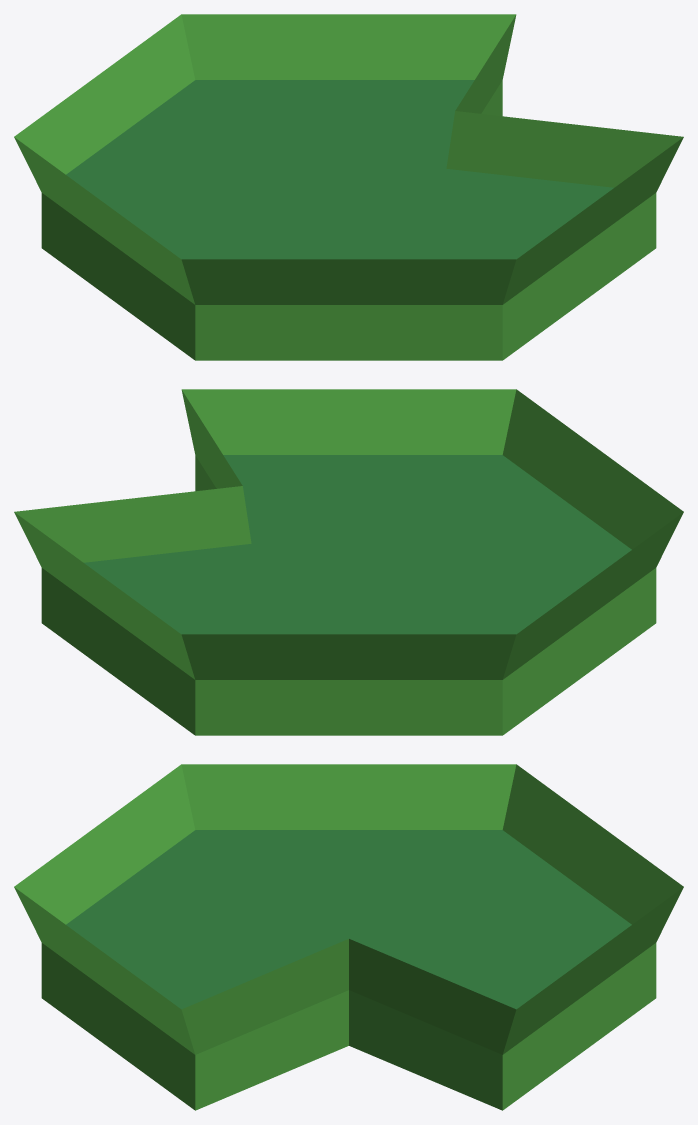
File: lily_small.glb
3 views of the same model, one above another, from view 1: azimuth 30°, elevation 25°; view 2: azimuth 150°, elevation 25°; view 3: azimuth 270°, elevation 25° (orthographic).
Visible parts, largest first — view 1: lily_small; view 2: lily_small; view 3: lily_small.
Part boxes in pixels (x1=…): lily_small: x1=14, y1=14, x2=683, y2=360; lily_small: x1=14, y1=389, x2=683, y2=735; lily_small: x1=14, y1=764, x2=683, y2=1110.
Bounding box in the file's own units: 0.1888 × 0.04 × 0.218.
